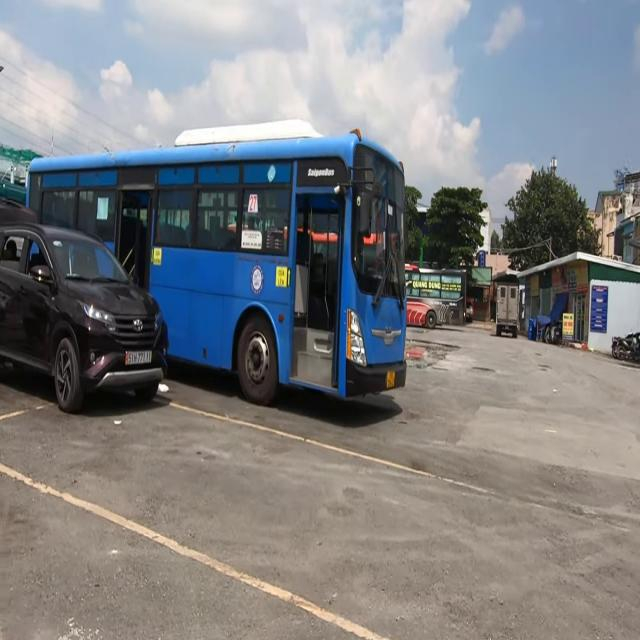bien_trang: (125, 350, 152, 365)
